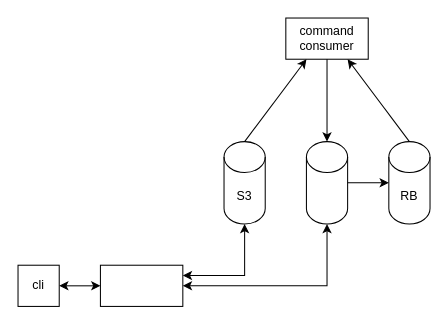
Image size: 448x324. Some labels were removed from this diagram. Each missing label, with the box of its shape:
PG: (305, 141, 348, 224)
proxy: (99, 264, 183, 306)
